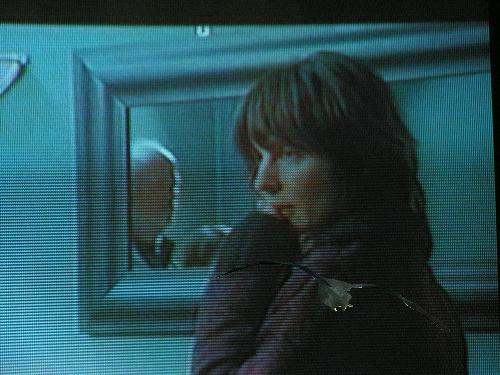tampered: (208, 262, 450, 334)
